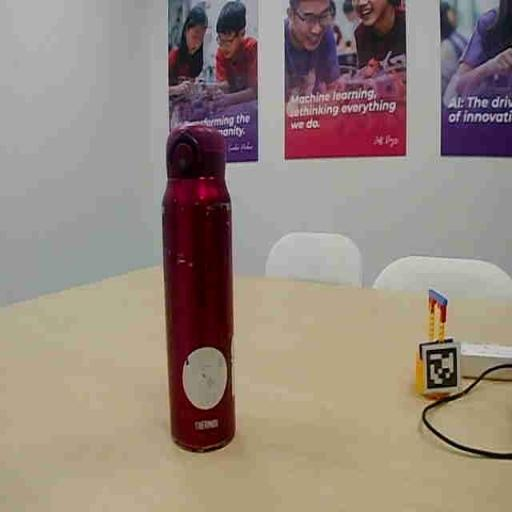bottle: (163, 124, 235, 451)
